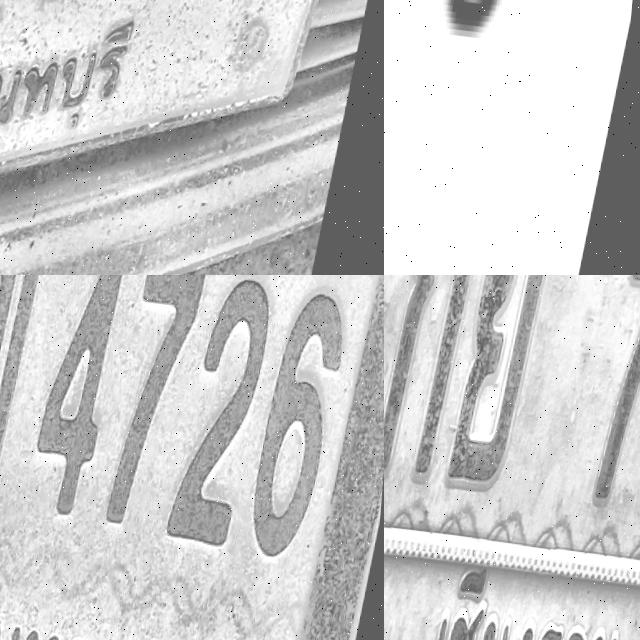license-plate: (0, 275, 384, 640), (0, 0, 384, 275), (384, 275, 640, 640), (384, 0, 640, 275)
